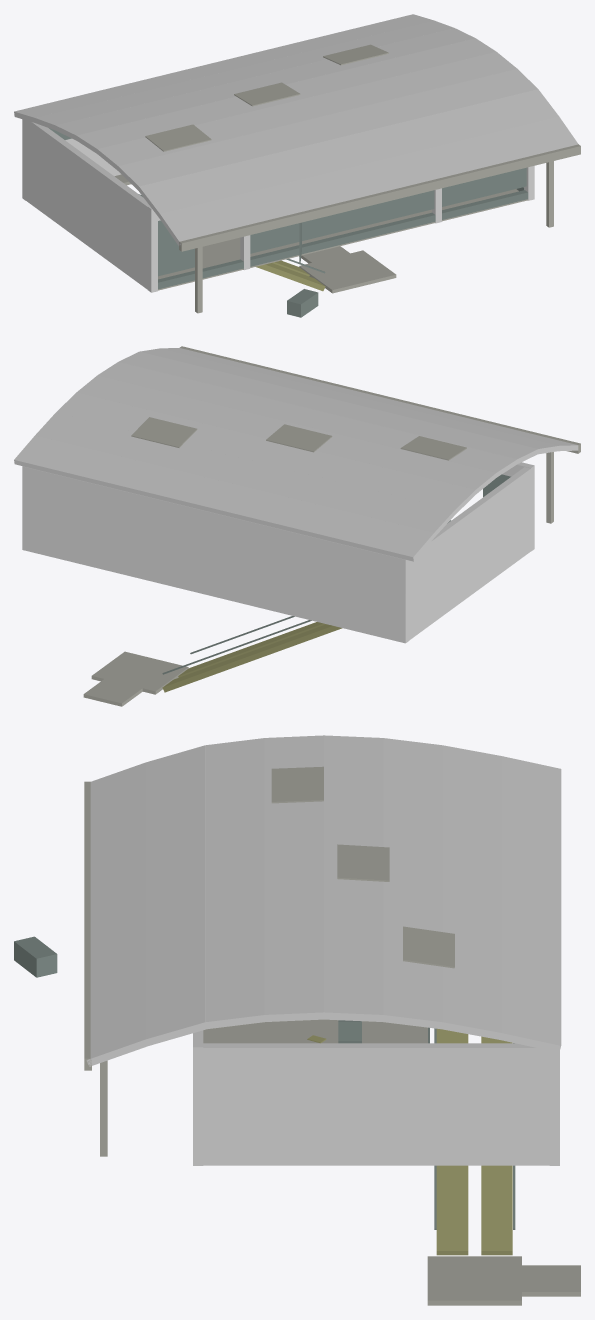
The model's file is SM_VestibuloCastellon_v0_Abandonada_LOD0.fbx.
3 views of the same model, one above another, from view 1: azimuth 30°, elevation 25°; view 2: azimuth 150°, elevation 25°; view 3: azimuth 270°, elevation 25° (orthographic). The views are drawn at different scales.
Parts seen in each view (by area): view 1: Cubierta, SM_vestibulo_castellon_v0_LOD0; view 2: Cubierta, SM_vestibulo_castellon_v0_LOD0; view 3: Cubierta, SM_vestibulo_castellon_v0_LOD0.
Part boxes in pixels (x1=…): Cubierta: x1=14, y1=14, x2=580, y2=313; SM_vestibulo_castellon_v0_LOD0: x1=22, y1=119, x2=534, y2=317; Cubierta: x1=14, y1=346, x2=580, y2=561; SM_vestibulo_castellon_v0_LOD0: x1=22, y1=462, x2=534, y2=706; Cubierta: x1=84, y1=735, x2=561, y2=1156; SM_vestibulo_castellon_v0_LOD0: x1=14, y1=936, x2=580, y2=1305.
Bounding box in the file's own units: 25 × 14.28 × 21.63.
